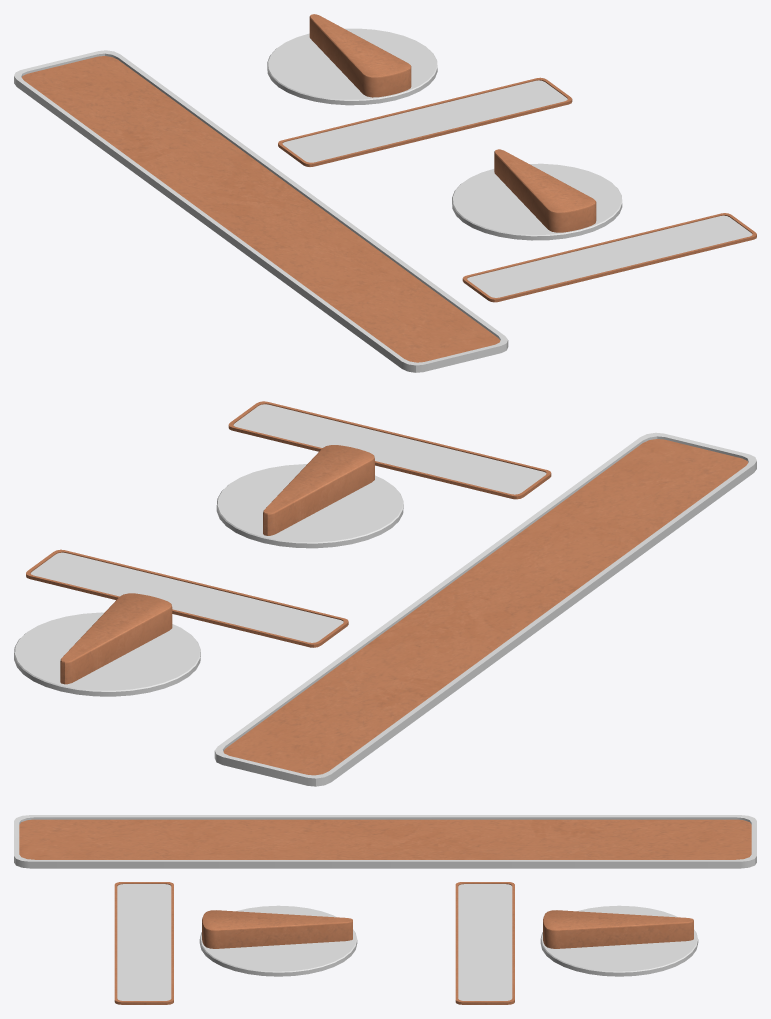
The model's file is FlipSwitch.fbx.
3 views of the same model, one above another, from view 1: azimuth 30°, elevation 25°; view 2: azimuth 150°, elevation 25°; view 3: azimuth 270°, elevation 25° (orthographic). The views are drawn at different scales.
Visible parts, largest first — view 1: Volumen, FlipSwitch_01, FlipSwitch_02, Text_02, Text_01; view 2: Volumen, FlipSwitch_01, FlipSwitch_02, Text_02, Text_01; view 3: Volumen, FlipSwitch_01, FlipSwitch_02, Text_01, Text_02.
Part boxes in pixels (bbox=[...]): Volumen: bbox=[14, 50, 508, 372]; FlipSwitch_01: bbox=[267, 14, 437, 105]; FlipSwitch_02: bbox=[452, 149, 622, 240]; Text_02: bbox=[462, 213, 756, 302]; Text_01: bbox=[278, 77, 572, 166]; Volumen: bbox=[214, 432, 756, 786]; FlipSwitch_01: bbox=[14, 593, 200, 696]; FlipSwitch_02: bbox=[216, 445, 403, 548]; Text_02: bbox=[228, 401, 551, 499]; Text_01: bbox=[26, 549, 348, 647]; Volumen: bbox=[14, 815, 756, 868]; FlipSwitch_01: bbox=[540, 905, 698, 976]; FlipSwitch_02: bbox=[199, 905, 357, 976]; Text_01: bbox=[455, 882, 514, 1004]; Text_02: bbox=[114, 882, 173, 1004].
Size of the model in its own units: 15.35 by 0.9758 by 26.52.
